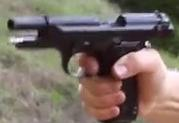gun: (1, 1, 179, 123)
